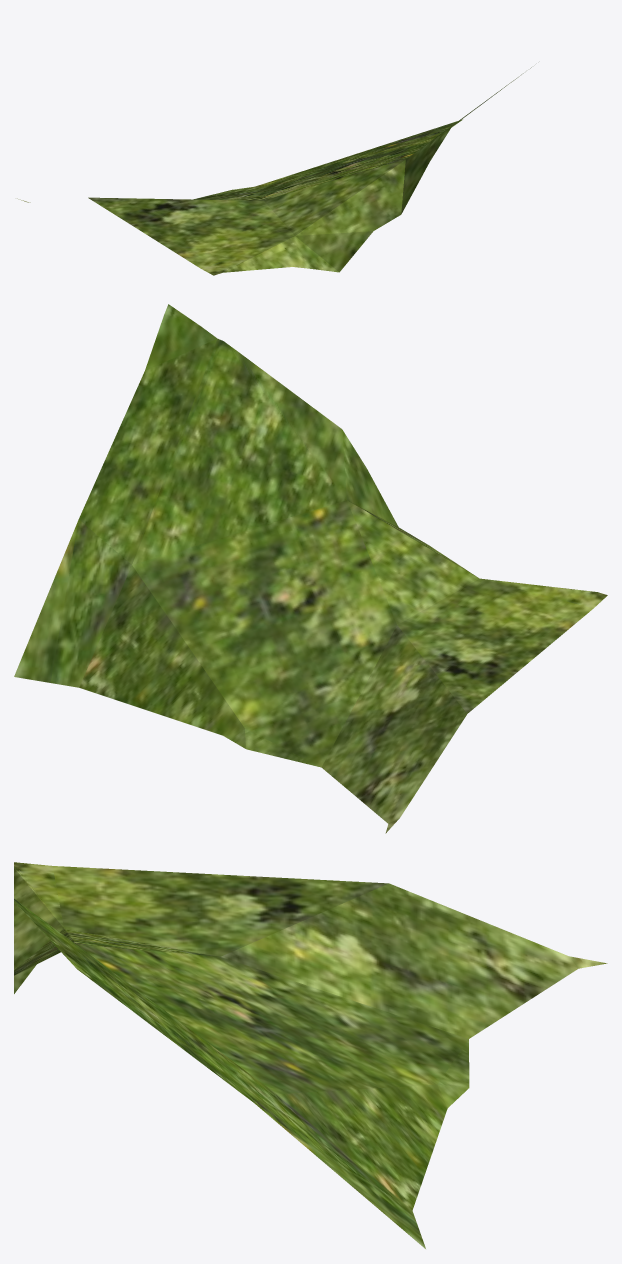
3 views of the same model, one above another, from view 1: azimuth 30°, elevation 25°; view 2: azimuth 150°, elevation 25°; view 3: azimuth 270°, elevation 25° (orthographic). The views are drawn at different scales.
Size of the model in its own units: 2.95 by 1.67 by 2.59.
2 materials, 2 textured.
